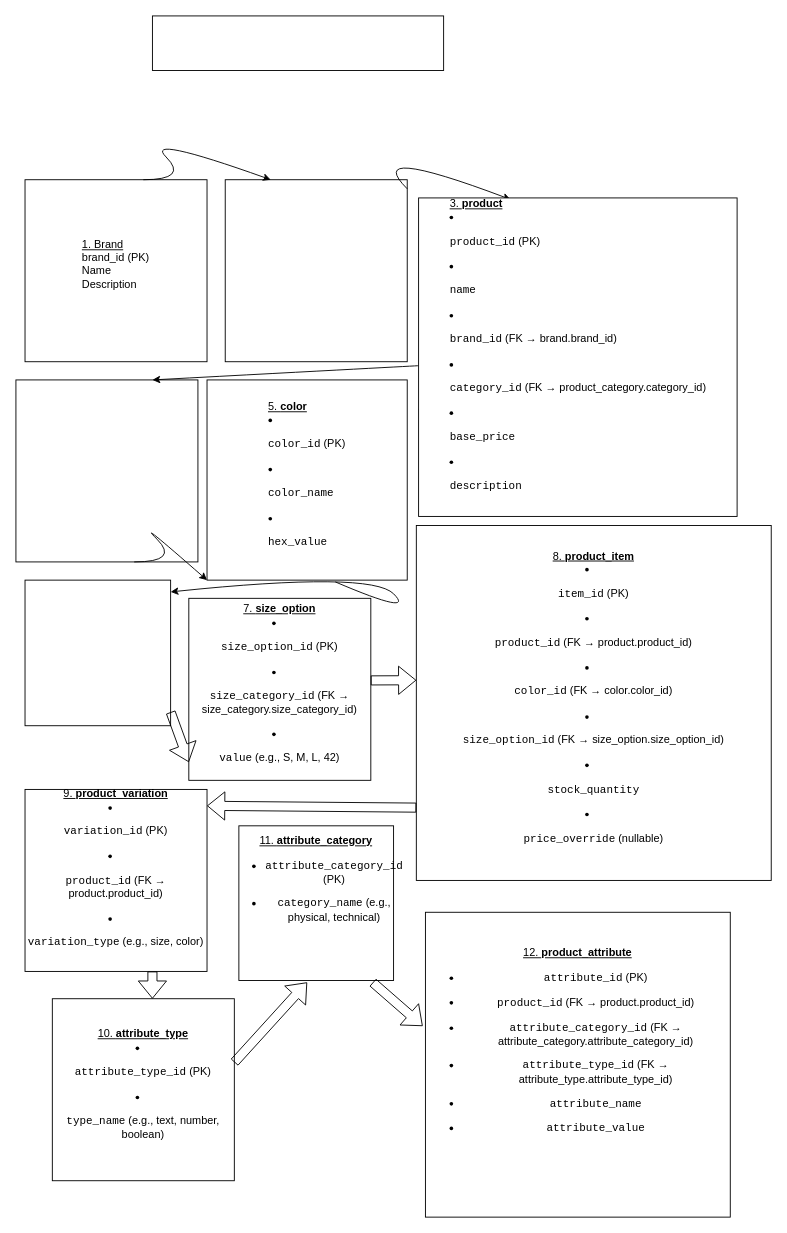
Image size: 787x1233. Some labels were removed from this diagram. The centre of each missing label's shape, as x and y in pixels:
"2. product_category category_id (PK) category_name description" goes at (315,270).
"4. product_image image_id (PK) product_id (FK → product.product_id) image_url" goes at (106,470).
"6. size_category size_category_id (PK) name (e.g., clothing, shoe)" goes at (97,652).
"SYLVESTER OMONDI GROUP" goes at (298,43).
